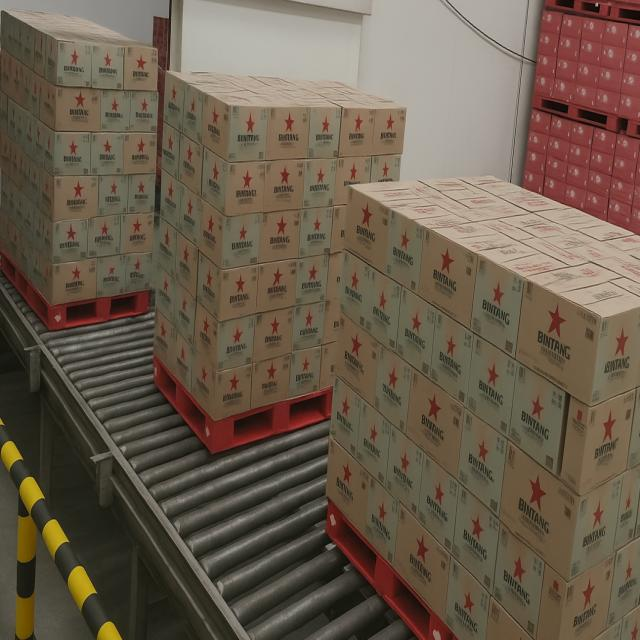pallet: (321, 168, 640, 640), (149, 66, 412, 466), (0, 0, 161, 334)
